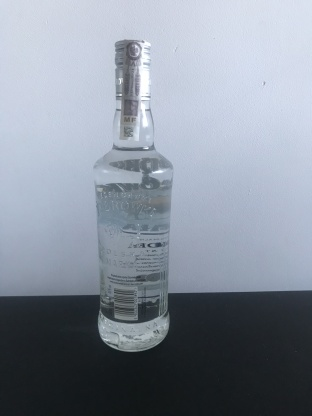nakretka: (112, 36, 154, 103)
